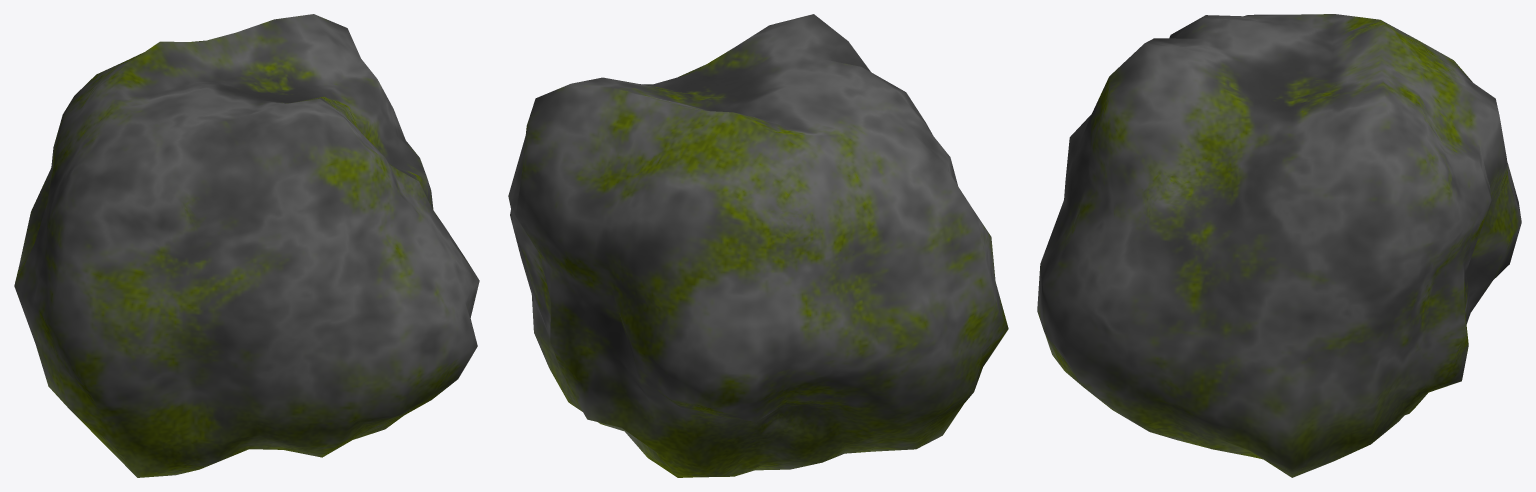
Rendered from boulder_lod0.glb.
The picture shows the model from 3 angles, left to right: view 1: azimuth 30°, elevation 25°; view 2: azimuth 150°, elevation 25°; view 3: azimuth 270°, elevation 25°; orthographic projection. The views are drawn at different scales.
Parts seen in each view (by area): view 1: BoulderMossyLarge; view 2: BoulderMossyLarge; view 3: BoulderMossyLarge.
Boxes of the visible parts, x1,y1,x2,y2 form: BoulderMossyLarge: (14, 14, 479, 477); BoulderMossyLarge: (508, 14, 1008, 477); BoulderMossyLarge: (1037, 14, 1521, 477).
Bounding box in the file's own units: 3.4 × 2.89 × 3.36.
Materials: 1 (1 with a texture image).
